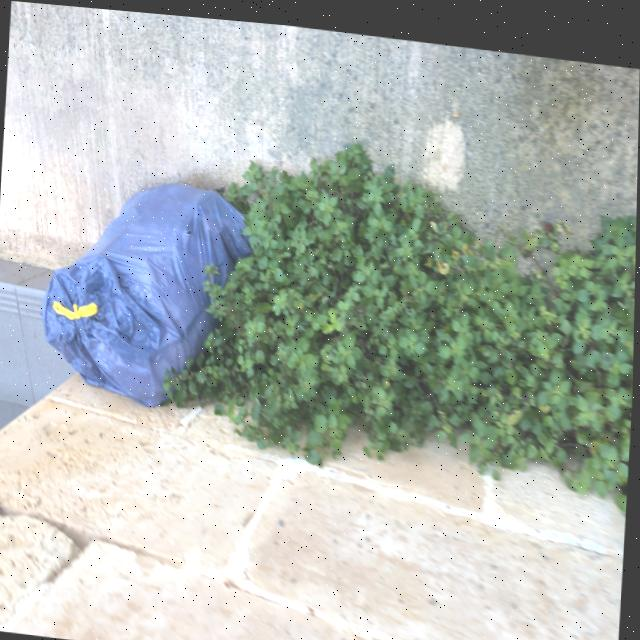Other: (42, 162, 259, 414)
